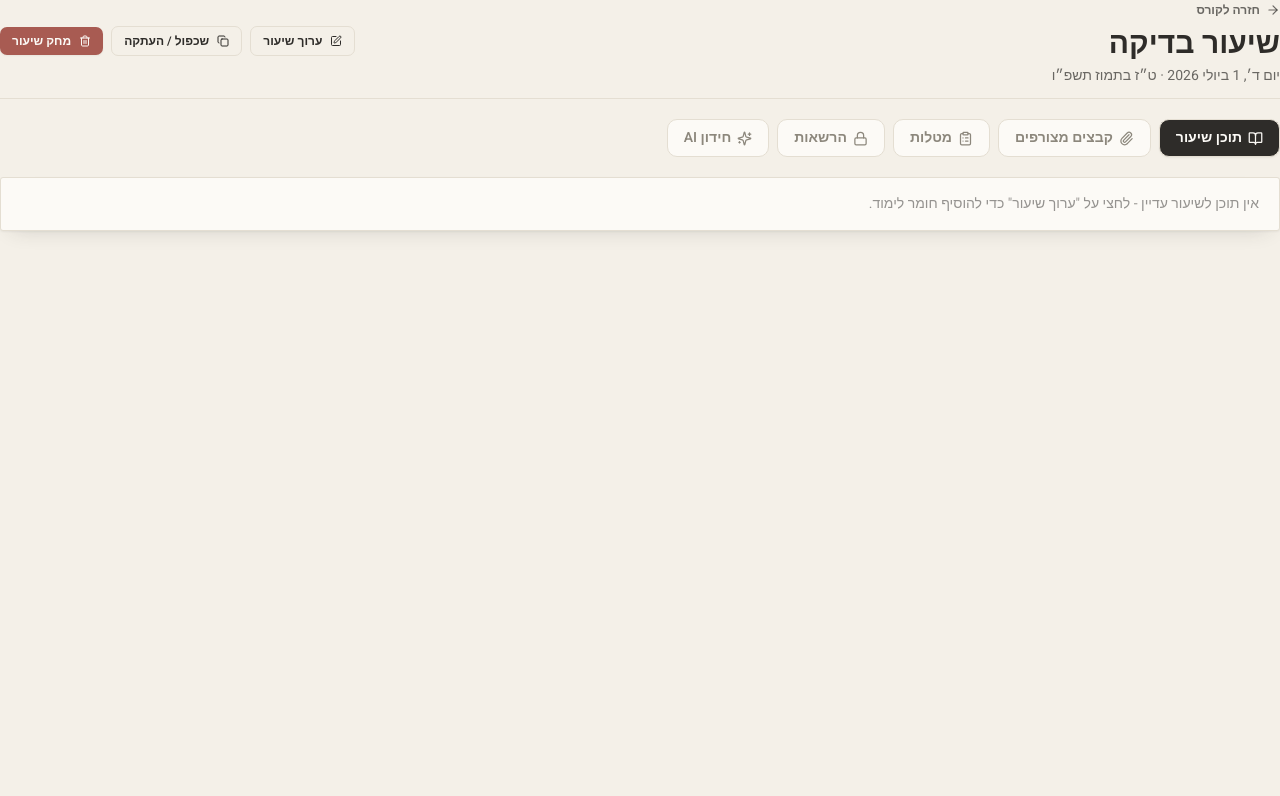
it: TeacherLessonDetailPage › prefills the existing teacher scores when the submission is already graded
The width and height of the screenshot is (1280, 796).
Expected: the heading "שיעור בדיקה" is shown, [1109, 22, 1279, 66]
Step 1. Click the button "מטלות" → (941, 138), box [893, 119, 990, 157]
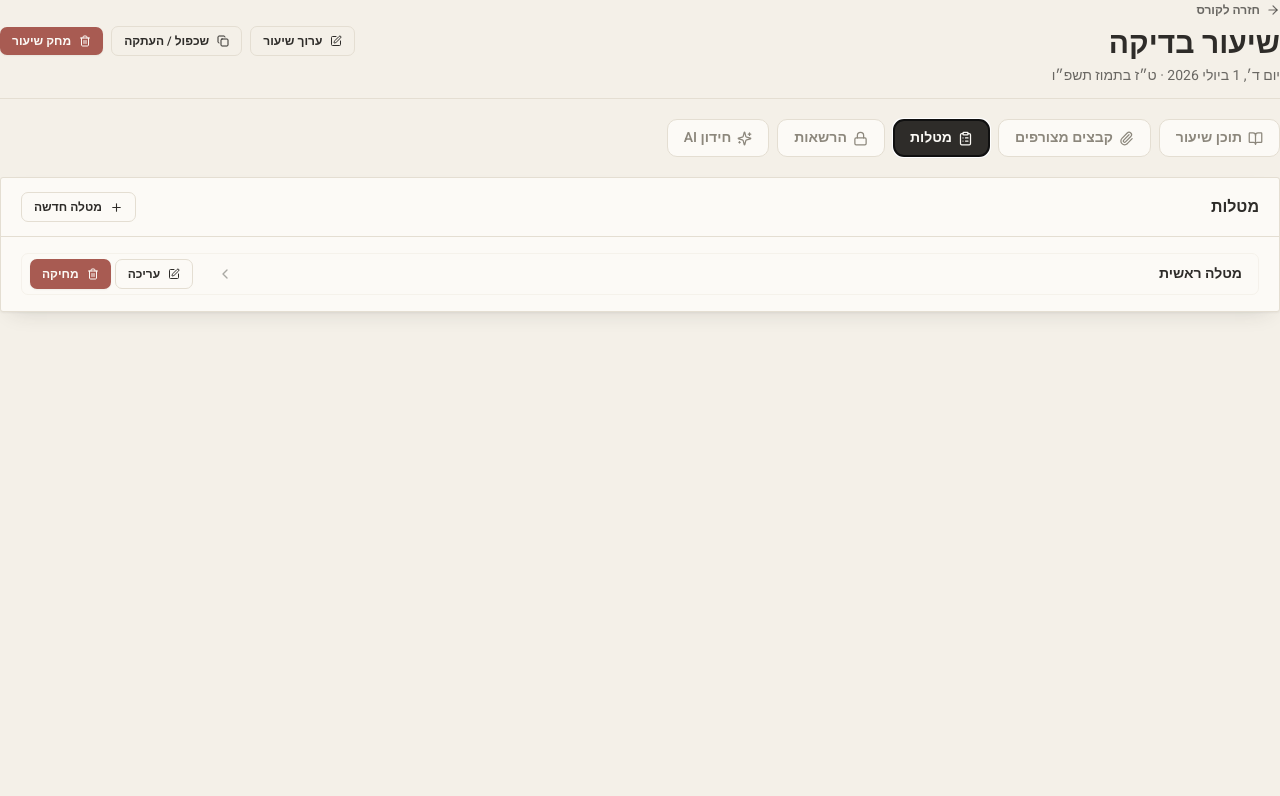
Step 2. Click the button "מטלה ראשית" → (1200, 274), box [201, 254, 1258, 294]
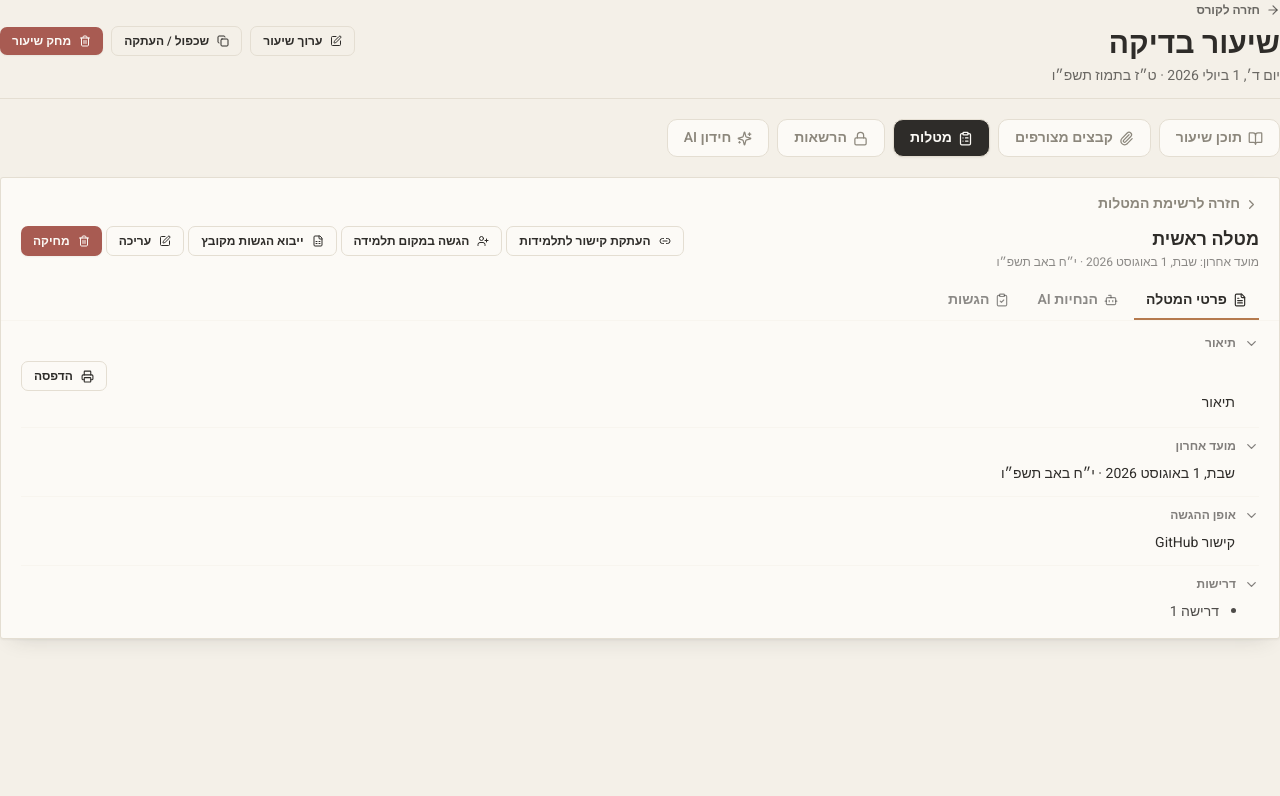
Step 3. Click the tab "הגשות" → (979, 301), box [936, 282, 1021, 320]
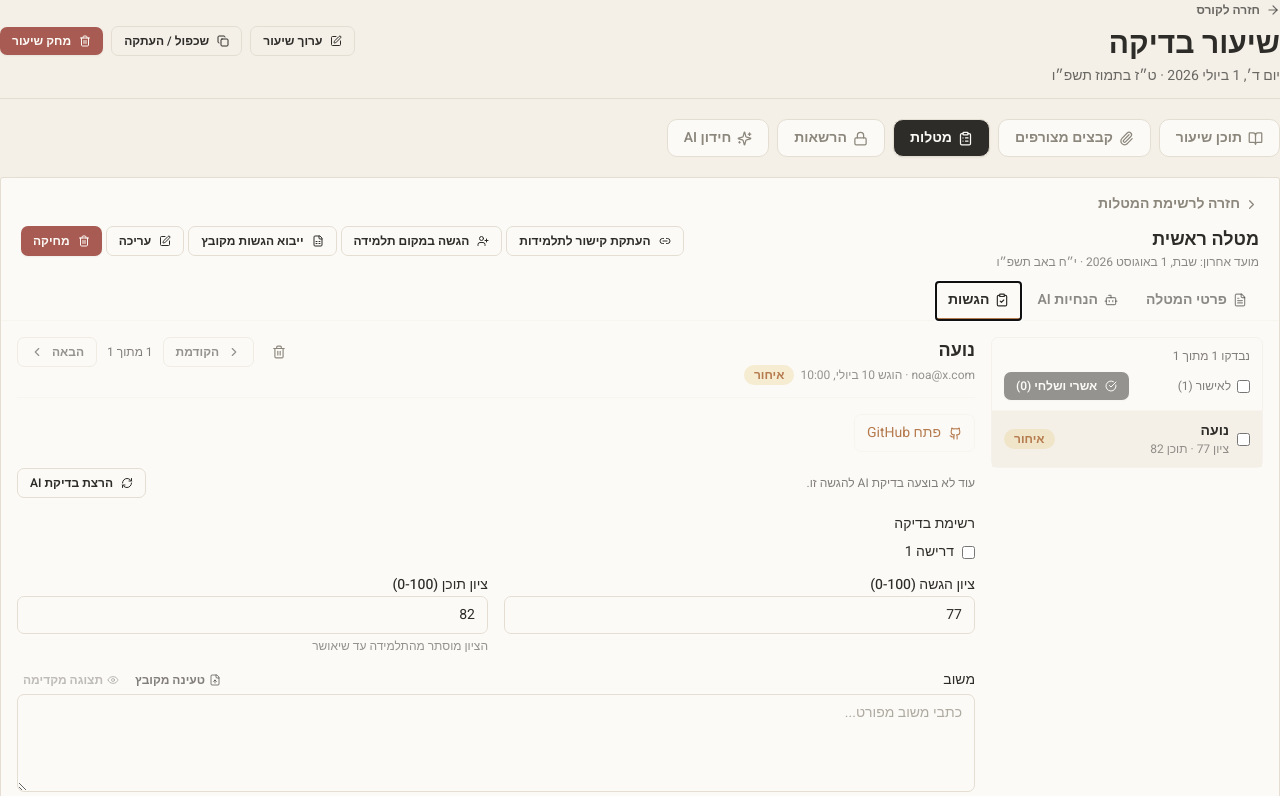
Result: the number field with placeholder "85" holds "77" at [504, 596, 975, 634]
Result: the number field with placeholder "90" holds "82" at [17, 596, 488, 634]
